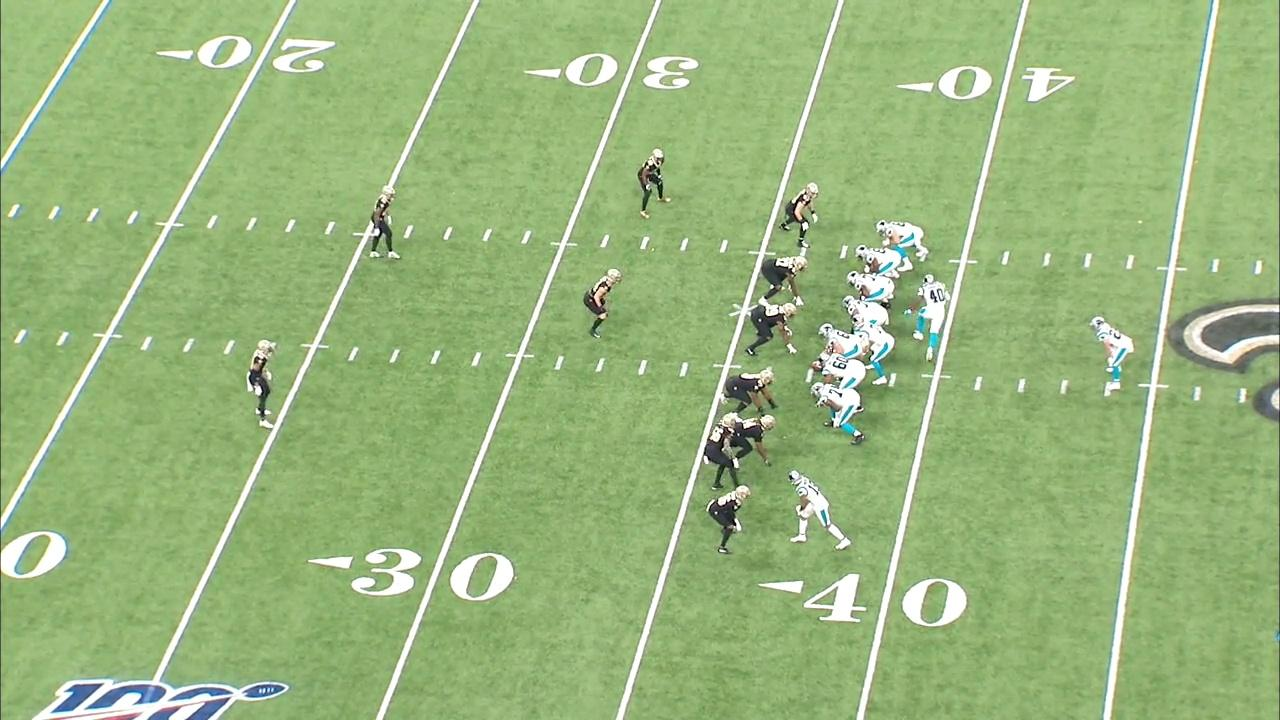player: (786, 468, 854, 553), (902, 273, 952, 364), (1087, 315, 1137, 392), (809, 381, 867, 447), (851, 312, 897, 389), (704, 483, 752, 556), (700, 413, 743, 493), (744, 300, 799, 359), (777, 180, 823, 250), (817, 350, 866, 414), (244, 339, 278, 431), (719, 366, 779, 418), (582, 265, 623, 341), (875, 218, 929, 273), (756, 254, 809, 307), (727, 413, 779, 467), (635, 145, 672, 220), (367, 183, 402, 261), (811, 322, 863, 372), (844, 270, 895, 312), (840, 293, 890, 331), (853, 243, 902, 280)
